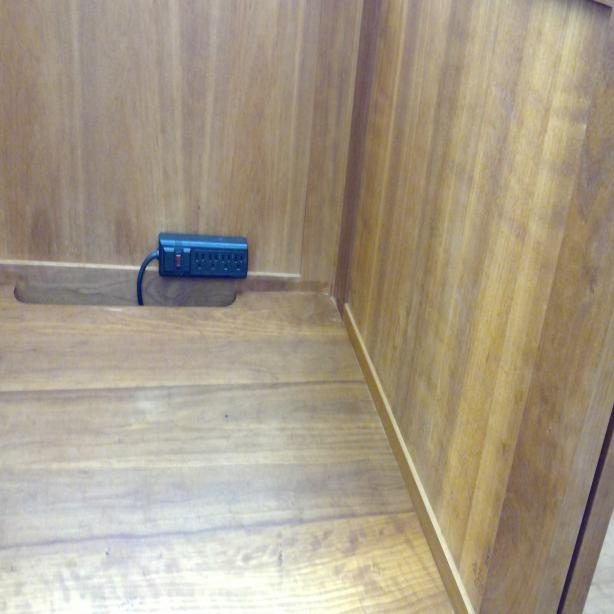typeb: (191, 248, 208, 274), (206, 248, 221, 276), (220, 249, 232, 276), (234, 250, 246, 274)
